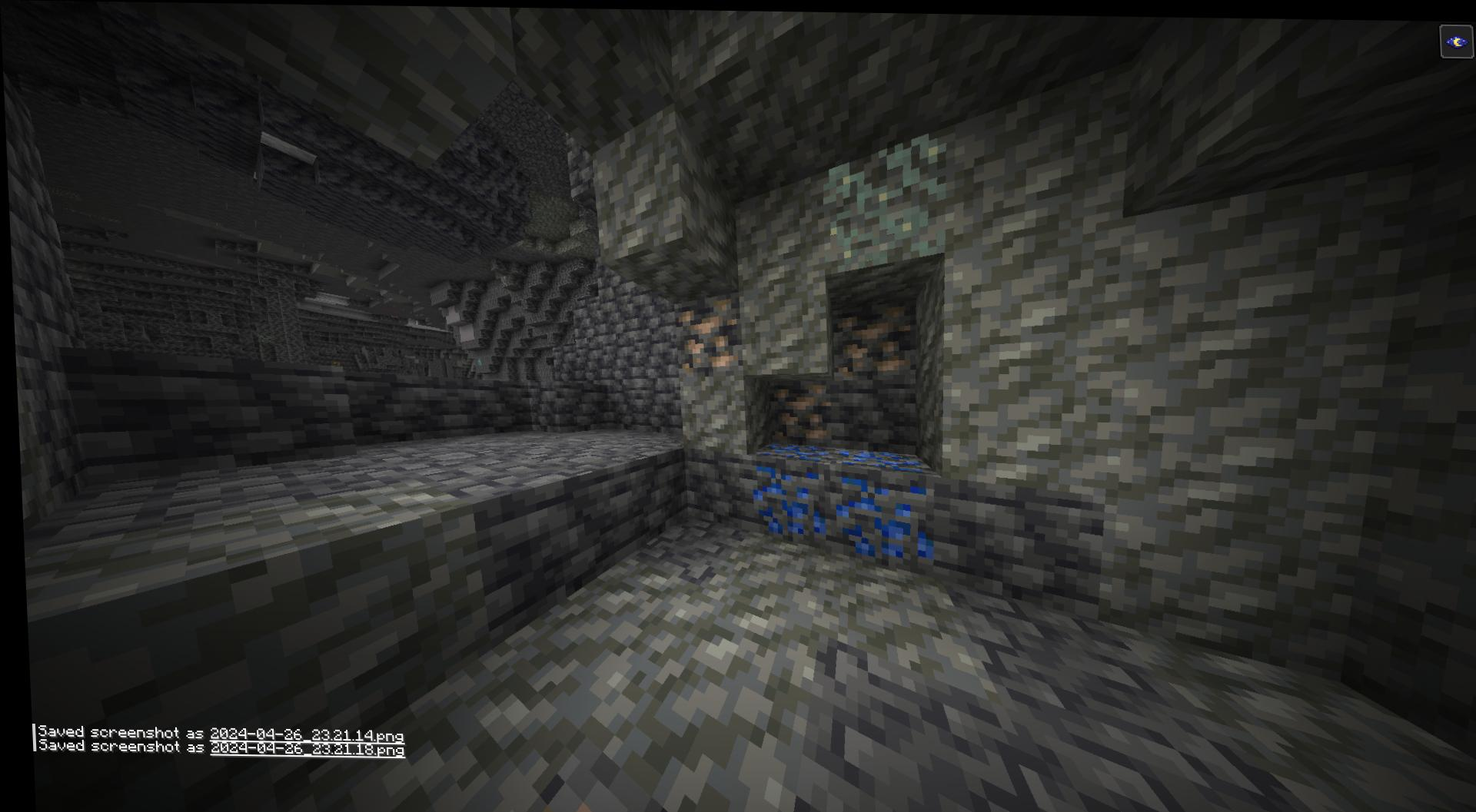iron ore: (828, 304, 910, 375), (674, 295, 741, 370), (764, 370, 823, 437)
